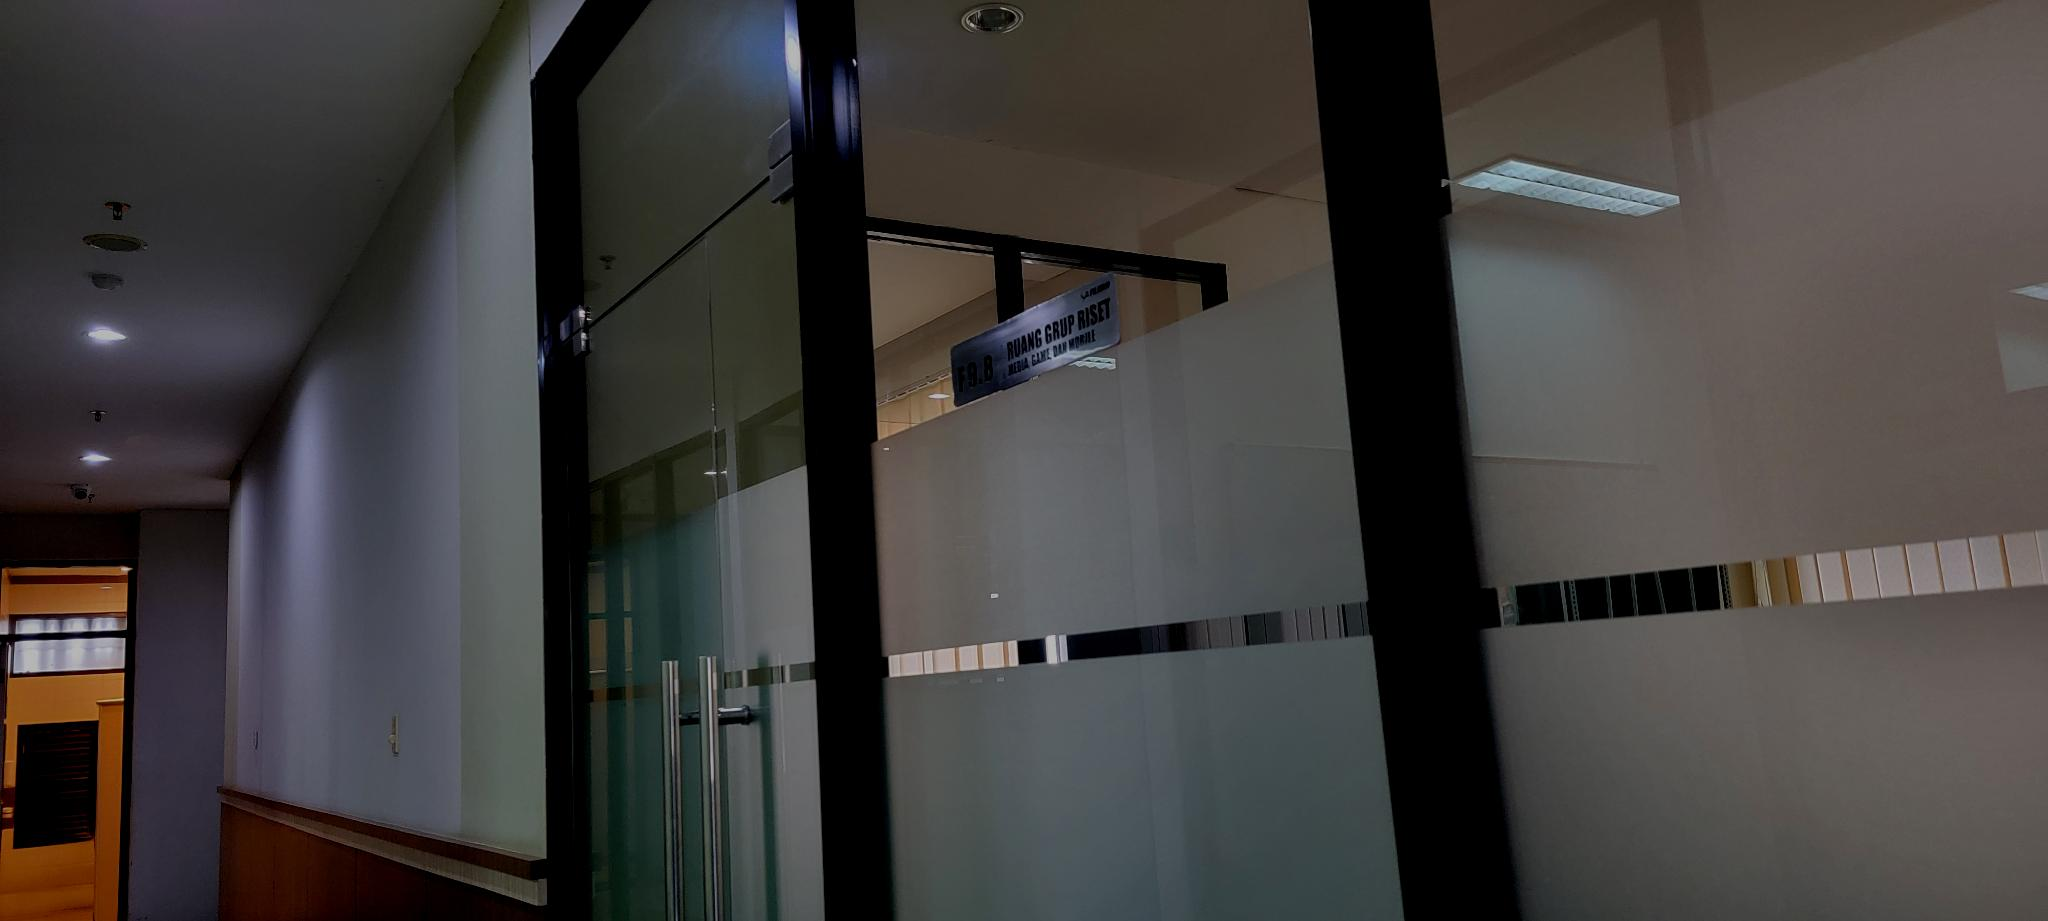plate: (948, 267, 1125, 409)
